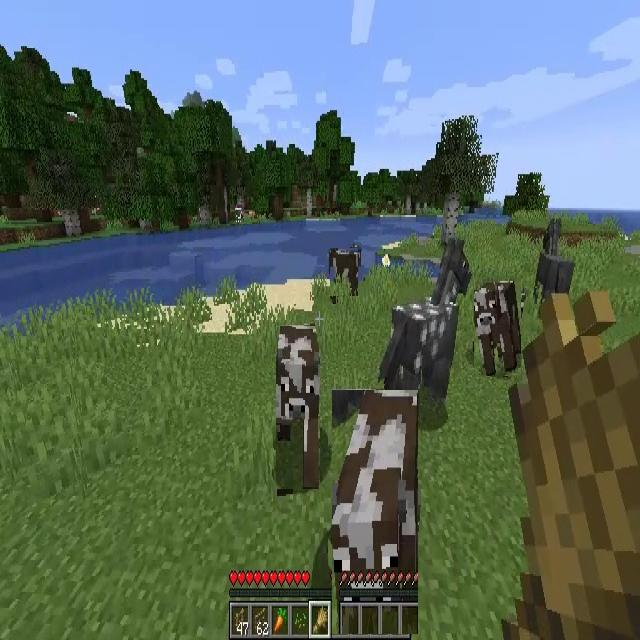cow: (332, 390, 418, 634), (276, 326, 320, 489), (474, 277, 521, 376), (330, 248, 358, 296)
